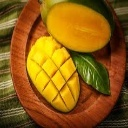mango: (27, 34, 81, 114), (46, 1, 111, 52)
